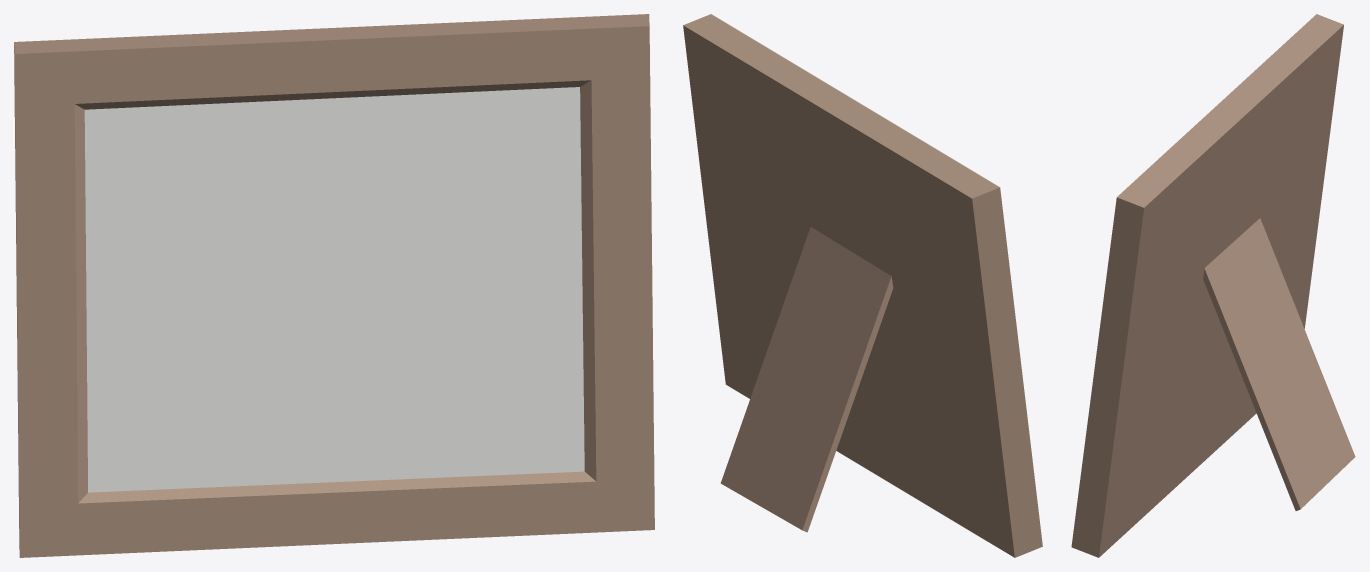
Rendered from Photoframe_8.fbx.
3 renders of one model, left to right at view 1: azimuth 30°, elevation 25°; view 2: azimuth 150°, elevation 25°; view 3: azimuth 270°, elevation 25°, orthographic. The views are drawn at different scales.
Parts seen in each view (by area): view 1: Photoframe_8; view 2: Photoframe_8; view 3: Photoframe_8.
Part boxes in pixels (x1=…): Photoframe_8: x1=14, y1=14, x2=654, y2=557; Photoframe_8: x1=683, y1=14, x2=1042, y2=557; Photoframe_8: x1=1071, y1=14, x2=1355, y2=557.
Size of the model in its own units: 33.16 by 19.84 by 28.12.
